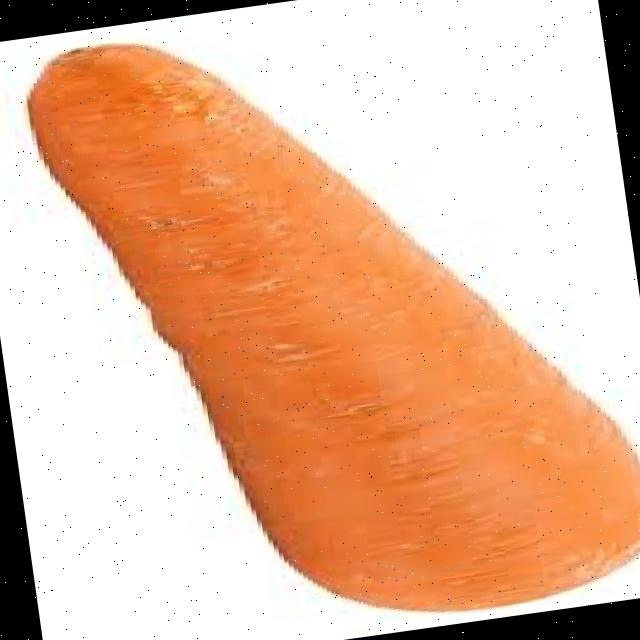carrot: (31, 47, 640, 610)
